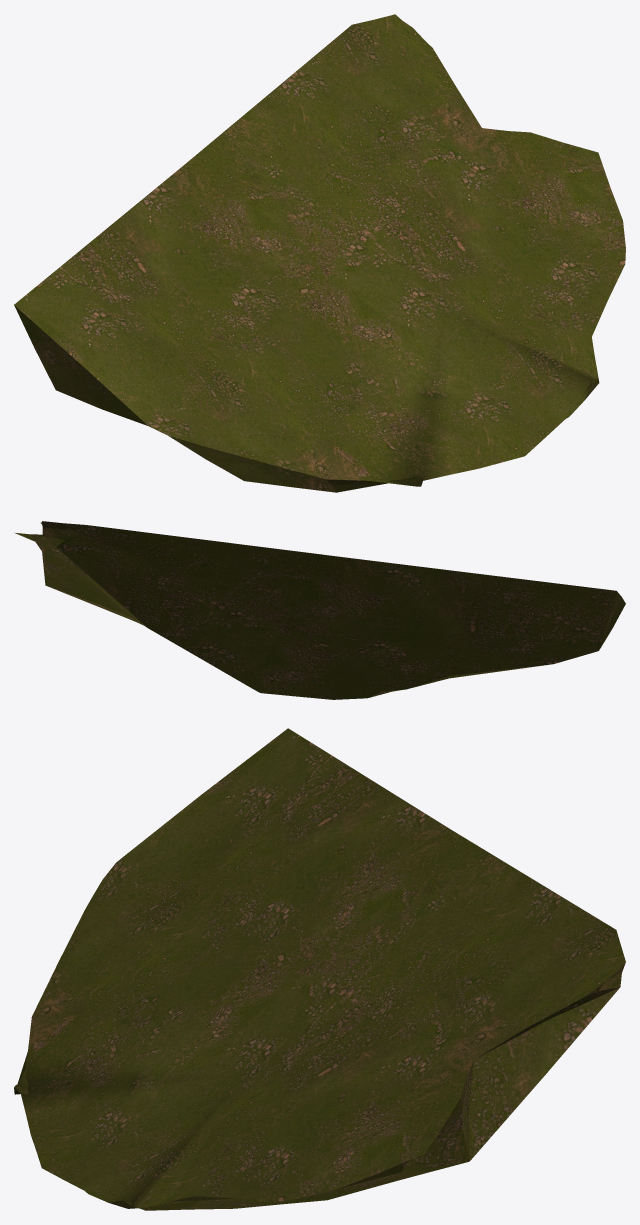
Rendered from boulder_1.glb.
The picture shows the model from 3 angles, top to bottom: view 1: azimuth 30°, elevation 25°; view 2: azimuth 150°, elevation 25°; view 3: azimuth 270°, elevation 25°; orthographic projection. The views are drawn at different scales.
Parts seen in each view (by area): view 1: boulder; view 2: boulder; view 3: boulder.
Part boxes in pixels (x1=…): boulder: x1=14, y1=14, x2=625, y2=492; boulder: x1=14, y1=521, x2=625, y2=699; boulder: x1=14, y1=728, x2=625, y2=1210.
Bounding box in the file's own units: 2.82 × 1.06 × 1.97.
Materials: 1 (1 with a texture image).
